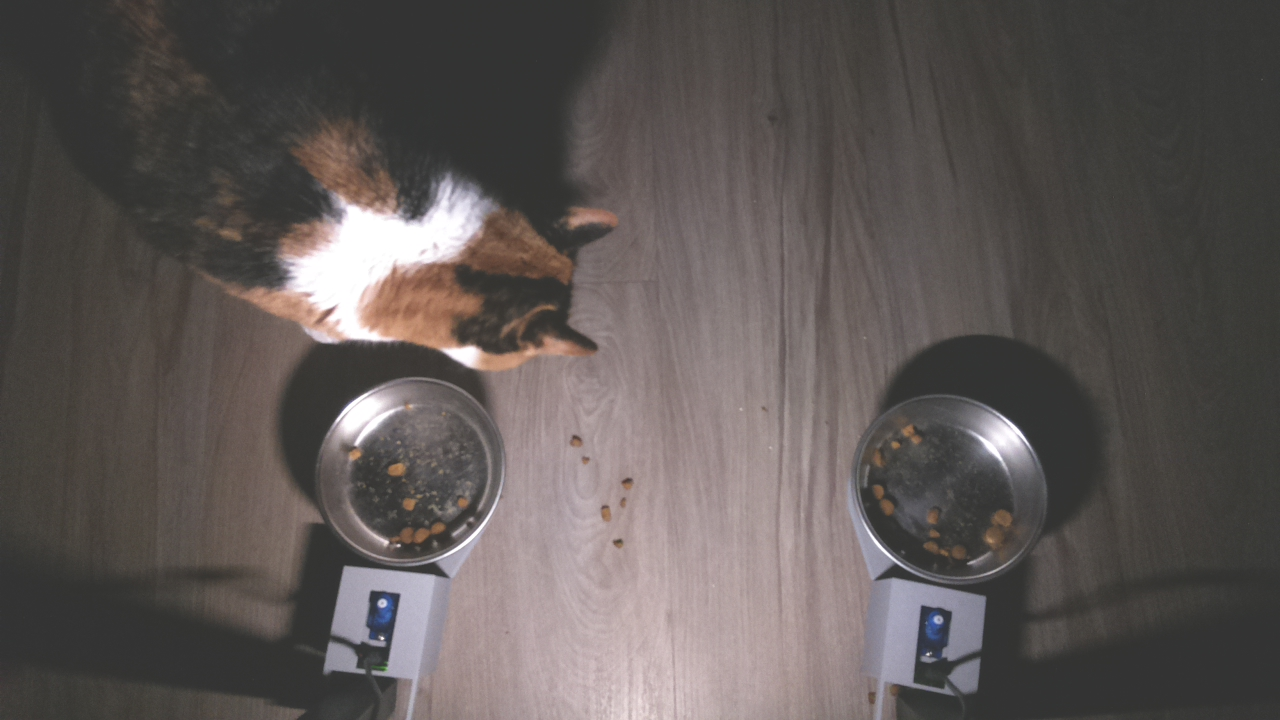bella: (383, 168, 622, 371)
open_bowl: (311, 372, 511, 575), (850, 390, 1052, 590)
